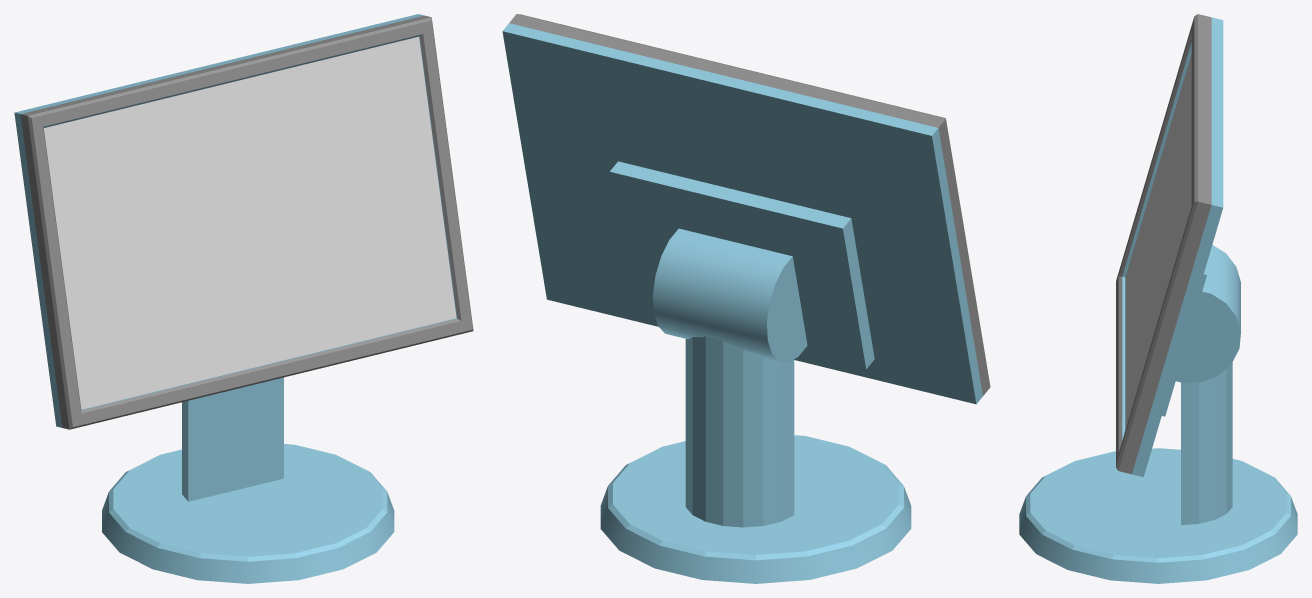
Rendered from PROPS_computerScreen_01.FBX.
3 renders of one model, left to right at view 1: azimuth 30°, elevation 25°; view 2: azimuth 150°, elevation 25°; view 3: azimuth 270°, elevation 25°, orthographic. The views are drawn at different scales.
Parts seen in each view (by area): view 1: PROPS_computerScreen_01_screen, PROPS_computerScreen_01_base; view 2: PROPS_computerScreen_01_base; view 3: PROPS_computerScreen_01_base, PROPS_computerScreen_01_screen.
Boxes of the visible parts, left/top/right/bottom form: PROPS_computerScreen_01_screen: left=44, top=36, right=456, bottom=409; PROPS_computerScreen_01_base: left=14, top=14, right=473, bottom=583; PROPS_computerScreen_01_base: left=502, top=14, right=990, bottom=583; PROPS_computerScreen_01_base: left=1019, top=14, right=1297, bottom=583; PROPS_computerScreen_01_screen: left=1125, top=54, right=1191, bottom=429.
Size of the model in its own units: 67.26 by 69.82 by 42.14.
